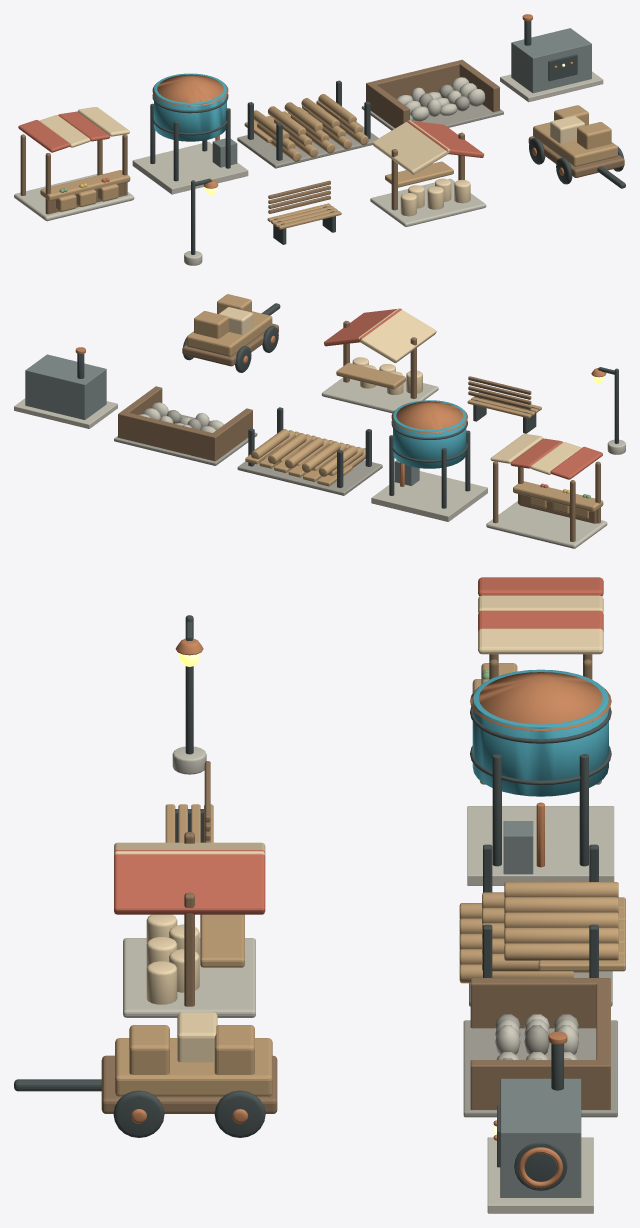
File: confluence-world-kit.glb
The picture shows the model from 3 angles, top to bottom: view 1: azimuth 30°, elevation 25°; view 2: azimuth 150°, elevation 25°; view 3: azimuth 270°, elevation 25°; orthographic projection. The views are drawn at different scales.
Parts seen in each view (by area): view 1: Asset_WaterWorks.mesh, Asset_FarmStand.mesh, Asset_MarketStall.mesh, Asset_StoneDepot.mesh, Asset_TimberYard.mesh, Asset_Generator.mesh, Asset_CargoCart.mesh, Asset_Bench.mesh, Asset_StreetLamp.mesh; view 2: Asset_WaterWorks.mesh, Asset_MarketStall.mesh, Asset_FarmStand.mesh, Asset_TimberYard.mesh, Asset_StoneDepot.mesh, Asset_Generator.mesh, Asset_CargoCart.mesh, Asset_Bench.mesh, Asset_StreetLamp.mesh; view 3: Asset_WaterWorks.mesh, Asset_FarmStand.mesh, Asset_CargoCart.mesh, Asset_StoneDepot.mesh, Asset_TimberYard.mesh, Asset_Generator.mesh, Asset_MarketStall.mesh, Asset_StreetLamp.mesh, Asset_Bench.mesh.
Part boxes in pixels (bbox=[...]): Asset_WaterWorks.mesh: bbox=[132, 73, 248, 194]; Asset_FarmStand.mesh: bbox=[370, 120, 486, 226]; Asset_MarketStall.mesh: bbox=[14, 107, 134, 221]; Asset_StoneDepot.mesh: bbox=[361, 59, 503, 130]; Asset_TimberYard.mesh: bbox=[237, 80, 378, 168]; Asset_Generator.mesh: bbox=[500, 14, 603, 102]; Asset_CargoCart.mesh: bbox=[528, 105, 625, 188]; Asset_Bench.mesh: bbox=[267, 180, 341, 244]; Asset_StreetLamp.mesh: bbox=[184, 178, 218, 265]; Asset_WaterWorks.mesh: bbox=[371, 400, 487, 521]; Asset_MarketStall.mesh: bbox=[486, 433, 607, 548]; Asset_FarmStand.mesh: bbox=[321, 308, 438, 413]; Asset_TimberYard.mesh: bbox=[237, 407, 382, 495]; Asset_StoneDepot.mesh: bbox=[114, 386, 257, 465]; Asset_Generator.mesh: bbox=[14, 347, 117, 428]; Asset_CargoCart.mesh: bbox=[182, 294, 280, 372]; Asset_Bench.mesh: bbox=[467, 376, 541, 433]; Asset_StreetLamp.mesh: bbox=[591, 367, 625, 454]; Asset_WaterWorks.mesh: bbox=[467, 669, 614, 885]; Asset_FarmStand.mesh: bbox=[114, 832, 265, 1017]; Asset_CargoCart.mesh: bbox=[14, 1012, 277, 1137]; Asset_StoneDepot.mesh: bbox=[463, 978, 617, 1117]; Asset_TimberYard.mesh: bbox=[459, 844, 625, 1006]; Asset_Generator.mesh: bbox=[487, 1031, 593, 1213]; Asset_MarketStall.mesh: bbox=[472, 577, 603, 784]; Asset_StreetLamp.mesh: bbox=[172, 615, 206, 774]; Asset_Bench.mesh: bbox=[165, 761, 213, 842].
Size of the model in its own units: 22.62 by 3.54 by 11.5.
